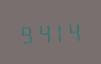four: (34, 20, 49, 44), (66, 19, 81, 42)
nine: (18, 21, 33, 44)
one: (50, 20, 65, 43)
